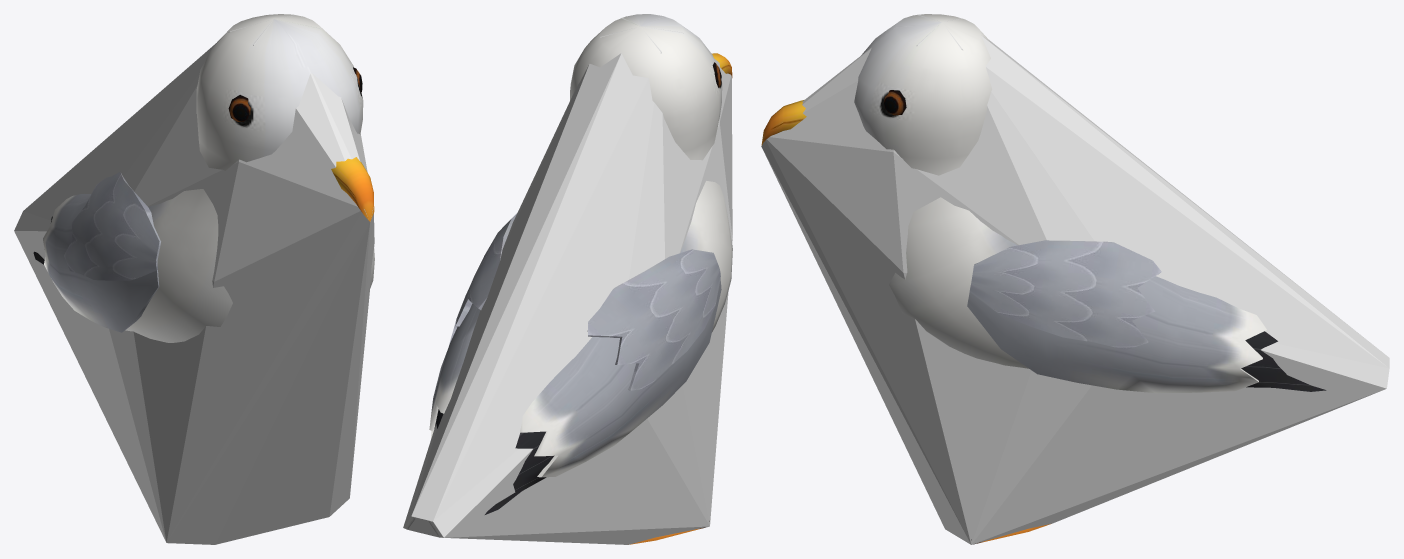
File: IO_Seagull_A.glb
3 renders of one model, left to right at view 1: azimuth 30°, elevation 25°; view 2: azimuth 150°, elevation 25°; view 3: azimuth 270°, elevation 25°, orthographic. The views are drawn at different scales.
Parts seen in each view (by area): view 1: IO_Seagull_A_COL, IO_Seagull_A_LOD0; view 2: IO_Seagull_A_COL, IO_Seagull_A_LOD0; view 3: IO_Seagull_A_COL, IO_Seagull_A_LOD0.
Boxes of the visible parts, left/top/right/bottom form: IO_Seagull_A_COL: left=14, top=15, right=374, bottom=544; IO_Seagull_A_LOD0: left=33, top=14, right=374, bottom=342; IO_Seagull_A_COL: left=403, top=17, right=732, bottom=544; IO_Seagull_A_LOD0: left=404, top=14, right=732, bottom=544; IO_Seagull_A_COL: left=761, top=14, right=1389, bottom=544; IO_Seagull_A_LOD0: left=761, top=14, right=1326, bottom=544.
Size of what is drawn, in the model's own units: 0.1781 by 0.3715 by 0.4399.
Materials: 2 (2 with a texture image).
